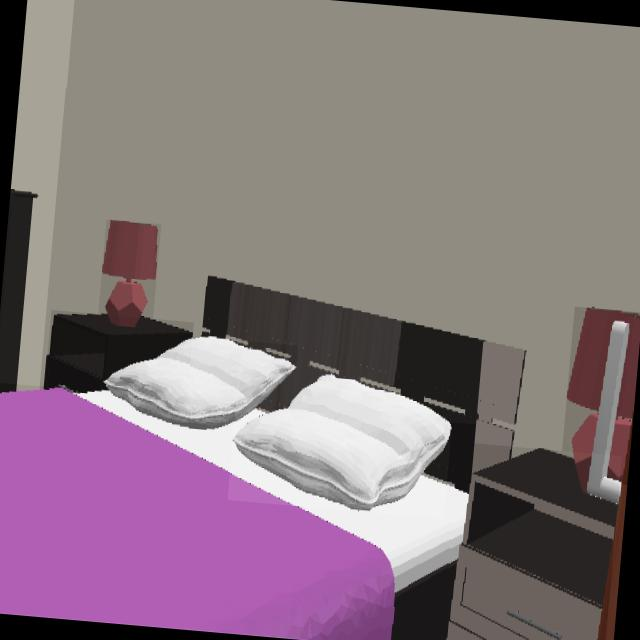bed: (0, 388, 468, 640)
lamp: (566, 308, 640, 484), (101, 220, 159, 327)
nighttable: (448, 449, 617, 640), (44, 316, 192, 392)
pillow: (232, 374, 450, 512), (103, 337, 296, 431)
